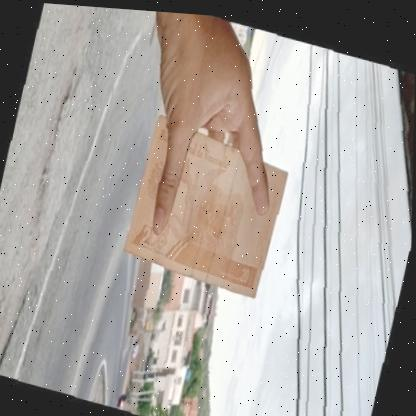twenty-back-vef: (121, 108, 294, 296)
